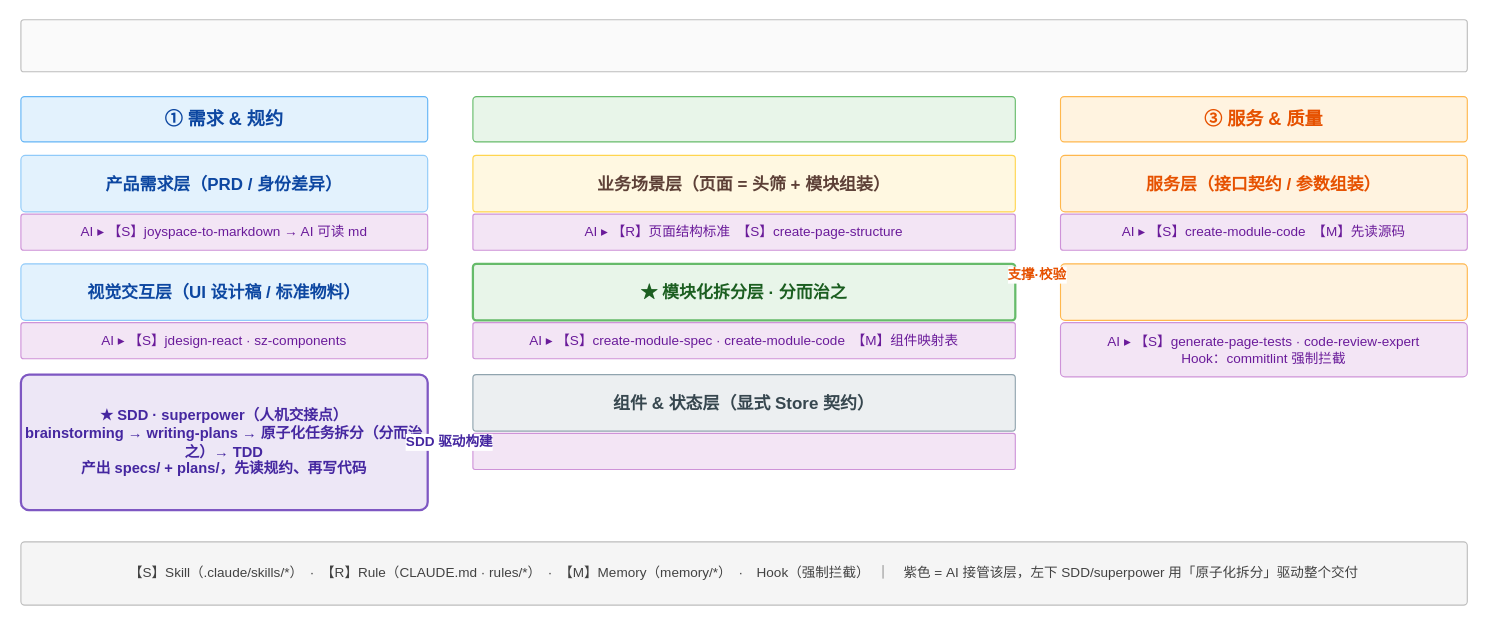
This 1487x625 diagram has some shape labels left out. Each missing label, with the box of its shape:
AI Native 工程架构（投屏版）：三栏分层 + AI 逐层接管: (20, 19, 1467, 72)
AI ▸ 【S】sz-components · dong-chart-components: (472, 432, 1015, 470)
② 研发架构（自底向上：组件 → 模块 → 页面）: (472, 95, 1015, 142)
质量保障层（单测 / E2E / CR / TDD）: (1059, 263, 1467, 320)
